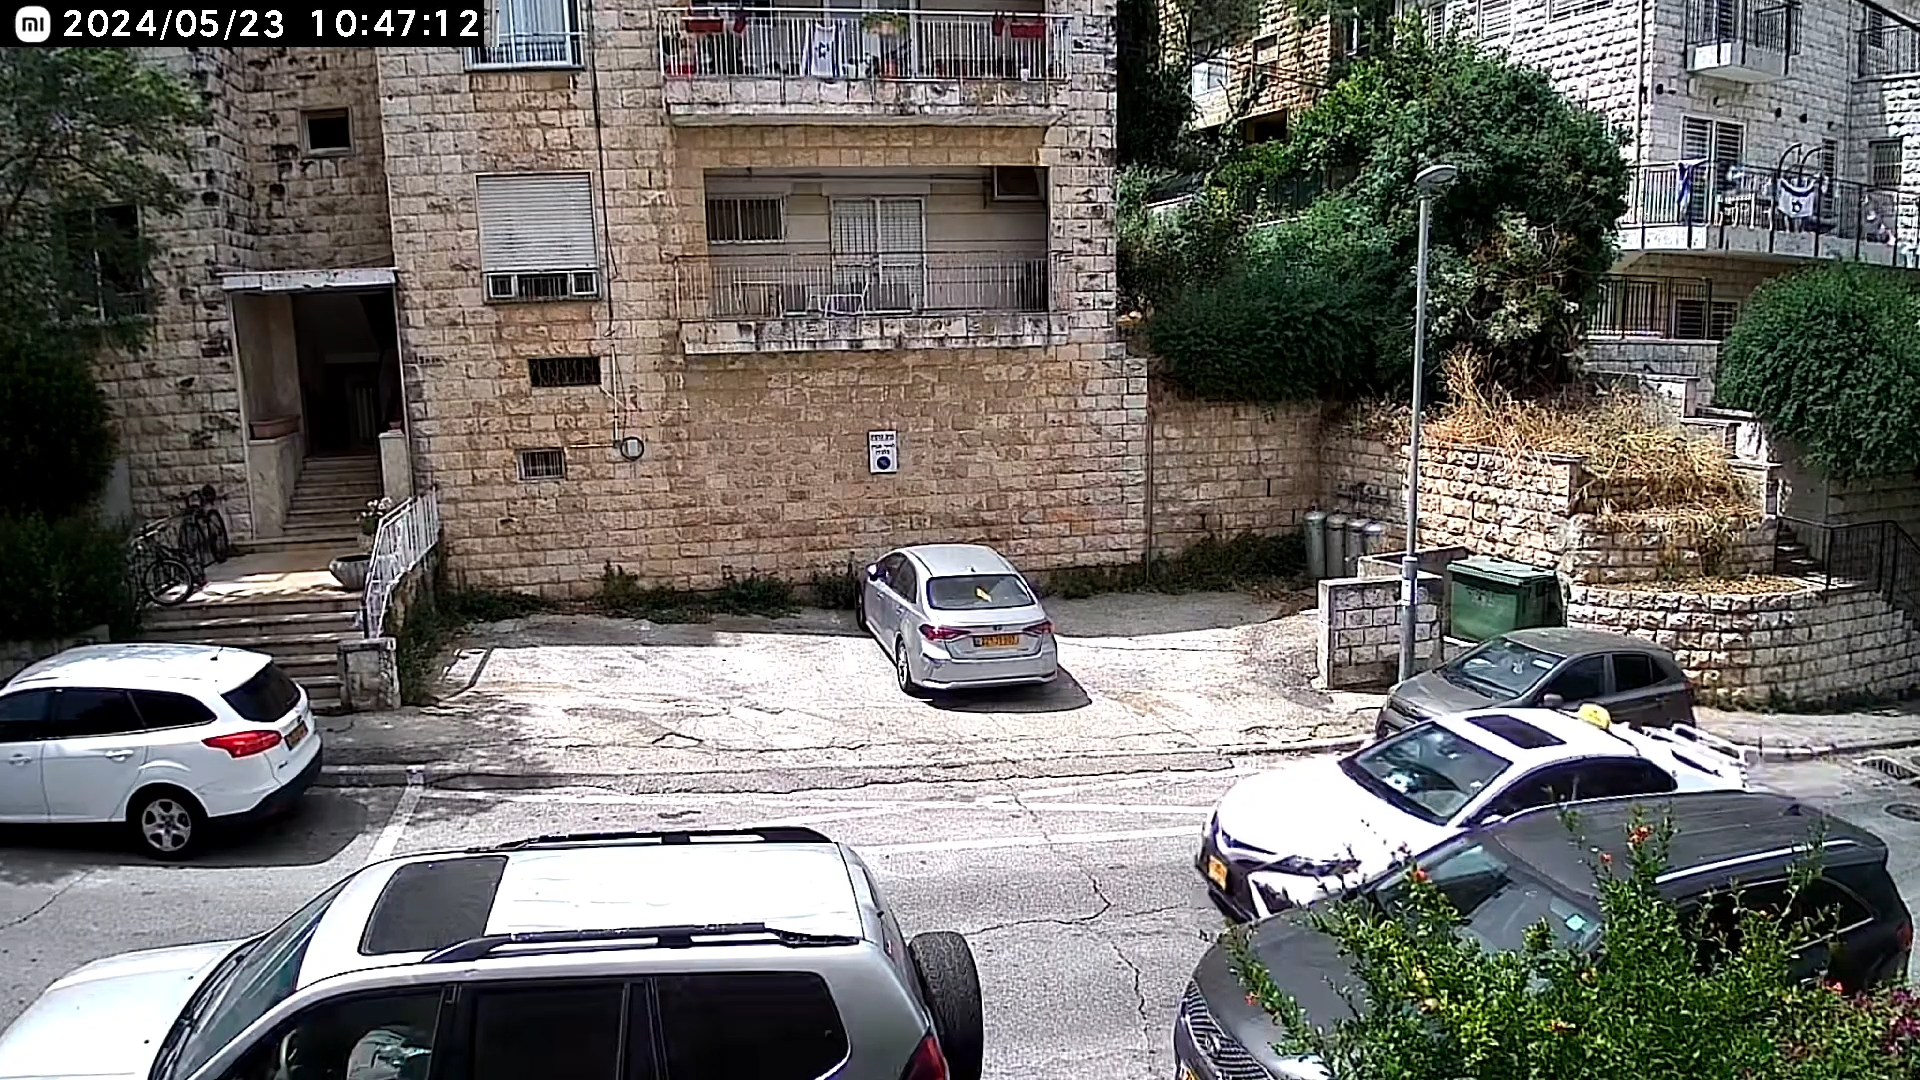moving car: (1203, 698, 1756, 860)
